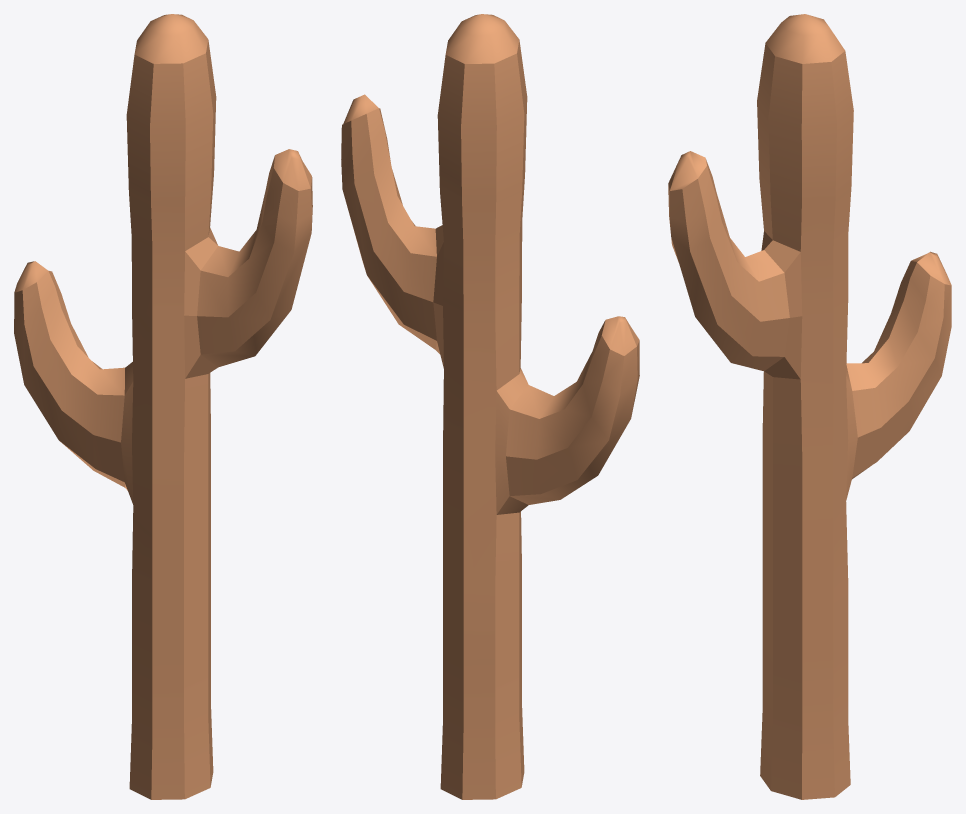
The model's file is Cact2.fbx.
3 views of the same model, side by side, from view 1: azimuth 30°, elevation 25°; view 2: azimuth 210°, elevation 25°; view 3: azimuth 270°, elevation 25° (orthographic).
Visible parts, largest first — view 1: pCylinder1; view 2: pCylinder1; view 3: pCylinder1.
Part boxes in pixels (<box>): pCylinder1: <box>14,14,312,799</box>; pCylinder1: <box>341,14,639,799</box>; pCylinder1: <box>668,14,951,799</box>.
Bounding box in the file's own units: 0.492 × 2.01 × 0.6752.
